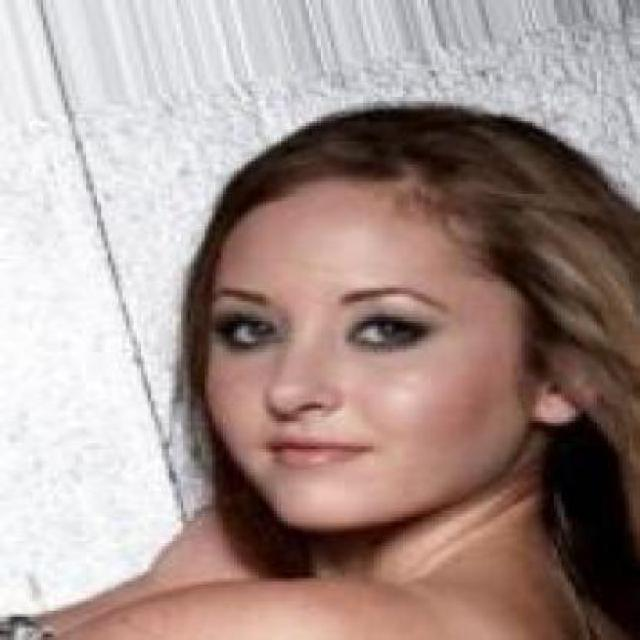closed-mouth: (260, 434, 380, 472)
